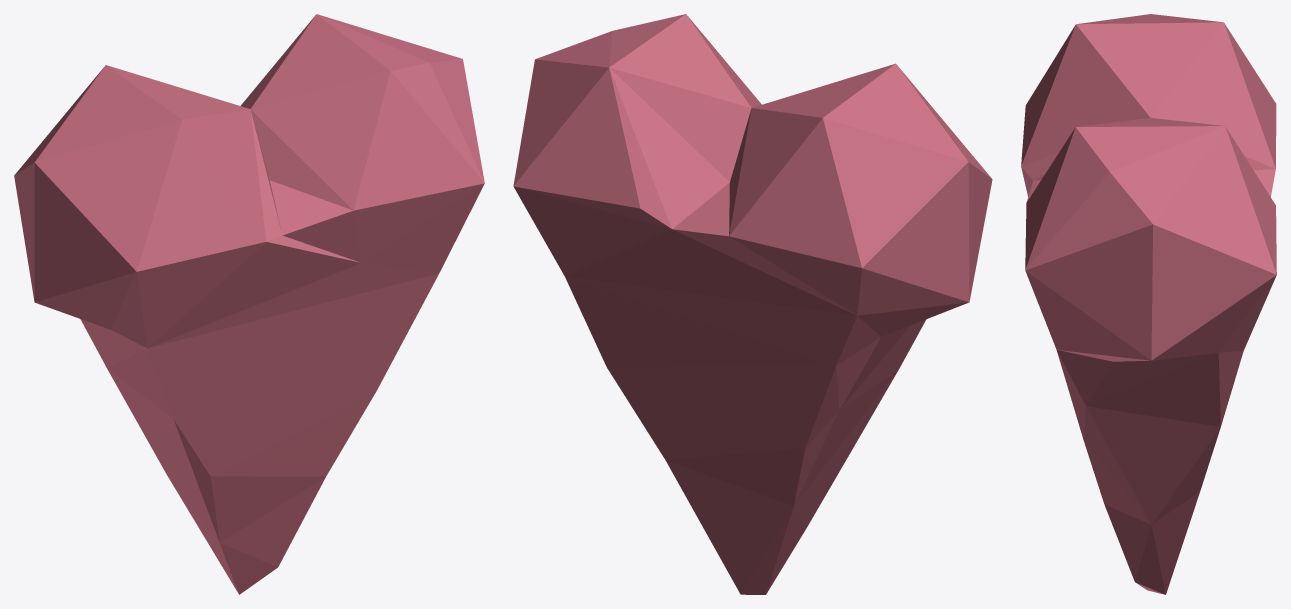
3 renders of one model, left to right at view 1: azimuth 30°, elevation 25°; view 2: azimuth 150°, elevation 25°; view 3: azimuth 270°, elevation 25°, orthographic.
Parts seen in each view (by area): view 1: part0; view 2: part0; view 3: part0.
Boxes of the visible parts, box(x1,y1,x2,y2) form: part0: box(14, 14, 484, 594); part0: box(513, 14, 992, 594); part0: box(1021, 14, 1276, 594).
Size of the model in its own units: 2.04 by 2.38 by 1.06.
